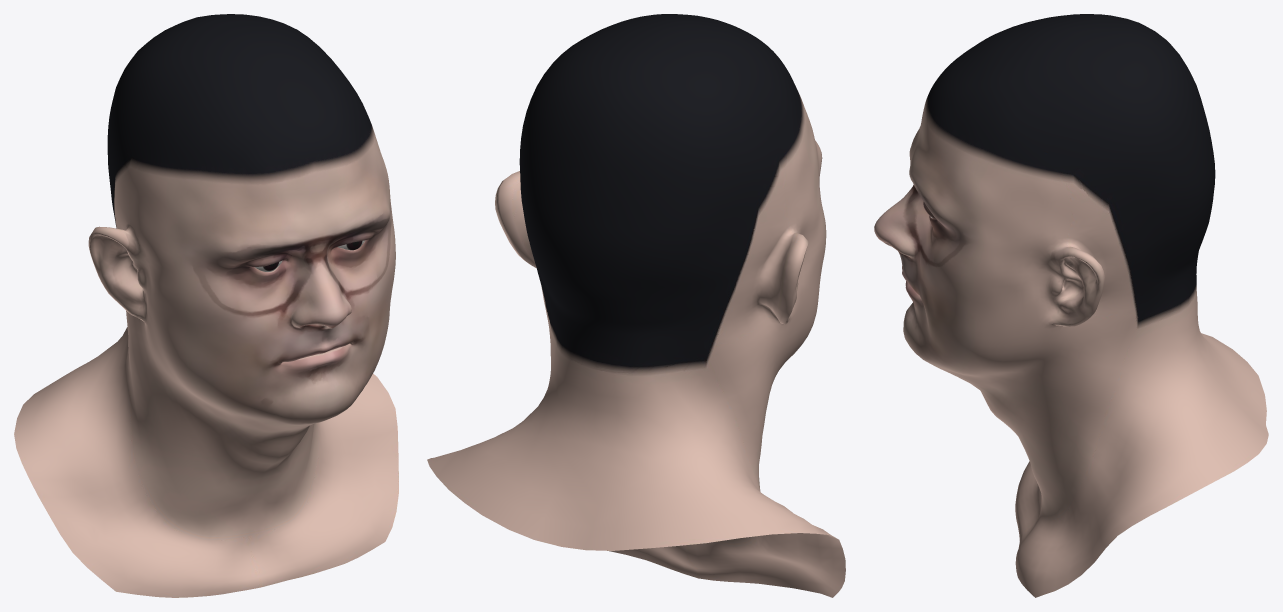
The model's file is caricature.glb.
3 views of the same model, side by side, from view 1: azimuth 30°, elevation 25°; view 2: azimuth 150°, elevation 25°; view 3: azimuth 270°, elevation 25° (orthographic). The views are drawn at different scales.
Visible parts, largest first — view 1: skin; view 2: skin; view 3: skin.
Boxes of the visible parts, left/top/right/bottom form: skin: left=14, top=14, right=398, bottom=597; skin: left=427, top=14, right=845, bottom=597; skin: left=874, top=14, right=1268, bottom=597.
Size of the model in its own units: 0.2588 by 0.3585 by 0.248.
7 materials, 3 textured.
